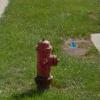Hydrant: (27, 27, 69, 95)
